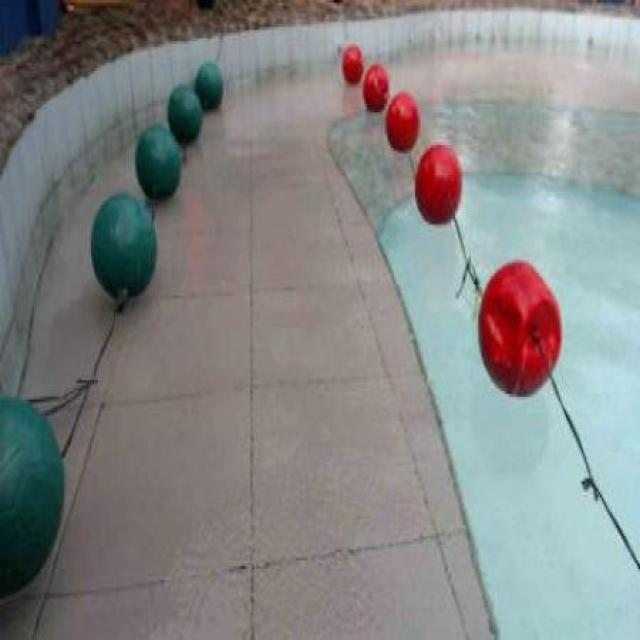buoy: (0, 392, 64, 598), (476, 260, 561, 397), (89, 191, 157, 301), (414, 144, 459, 223), (134, 123, 180, 200), (385, 90, 421, 156), (166, 83, 200, 142), (361, 60, 390, 115), (194, 62, 221, 106), (341, 42, 363, 83)
